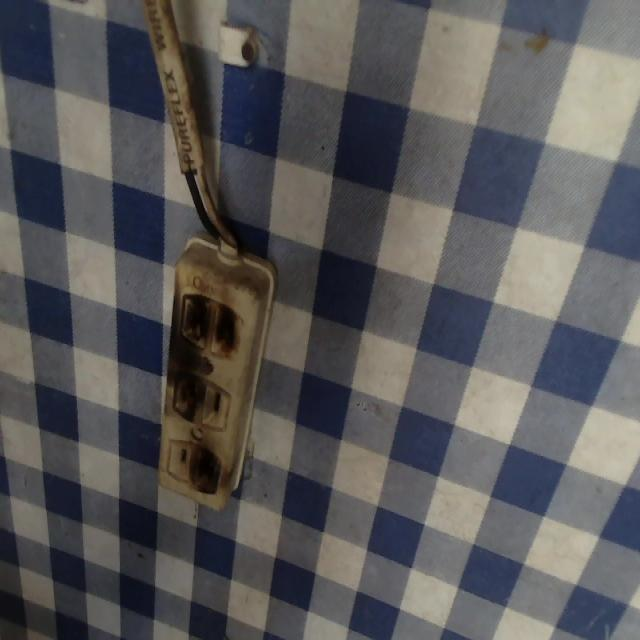-: (180, 288, 242, 367), (191, 444, 220, 496), (171, 366, 199, 418)
